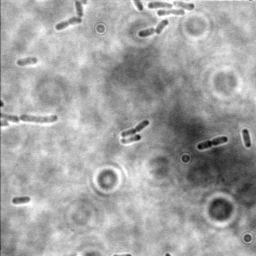Dividing: (119, 118, 151, 139), (195, 134, 229, 152), (53, 15, 82, 32), (155, 7, 186, 18)
Rod: (17, 112, 58, 126), (13, 55, 40, 68), (239, 126, 252, 150), (153, 18, 170, 36), (172, 1, 196, 12), (73, 1, 86, 20), (146, 1, 173, 10), (136, 27, 157, 38), (11, 194, 32, 205)
